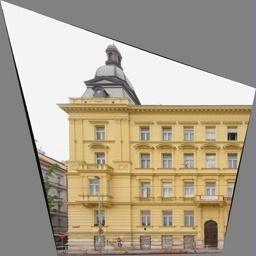building: (62, 81, 256, 256)
